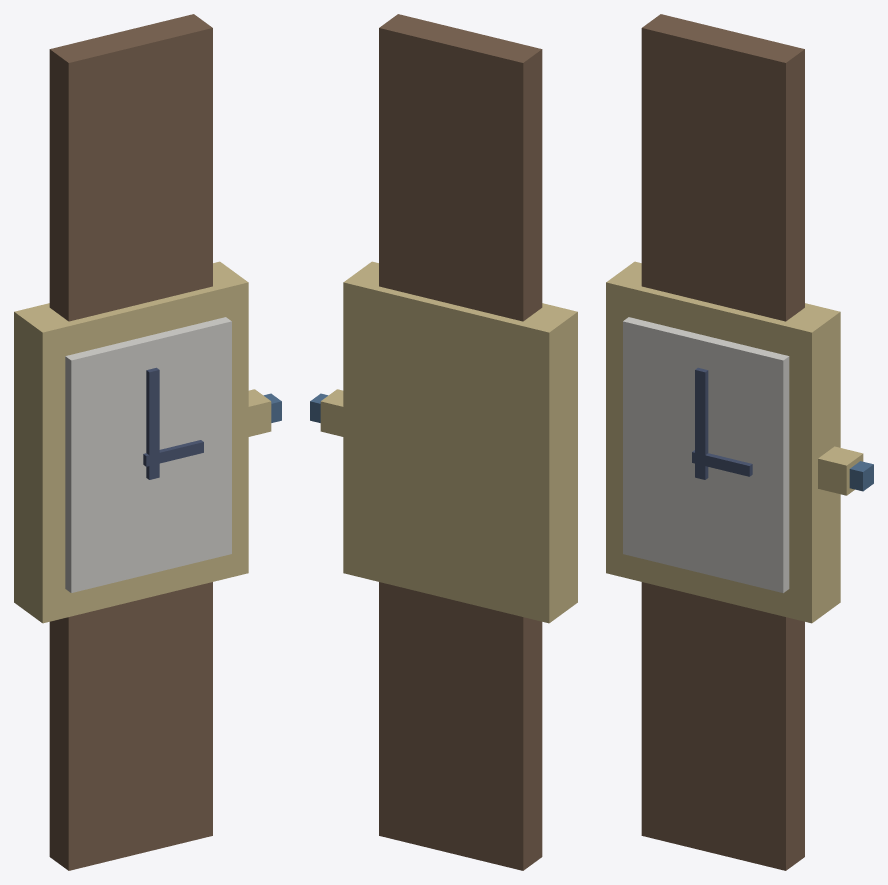
File: watch.glb
3 renders of one model, left to right at view 1: azimuth 30°, elevation 25°; view 2: azimuth 150°, elevation 25°; view 3: azimuth 330°, elevation 25°, orthographic.
Visible parts, largest first — view 1: geometry_2, geometry_3, geometry_1, geometry_0, geometry_4, geometry_6, geometry_5; view 2: geometry_0, geometry_2, geometry_3, geometry_6; view 3: geometry_2, geometry_3, geometry_1, geometry_0, geometry_6, geometry_4, geometry_5, geometry_7.
Boxes of the visible parts, x1,y1,x2,y2 form: geometry_2: (49,14,212,321); geometry_3: (49,582,212,870); geometry_1: (65,317,231,592); geometry_0: (14,261,248,623); geometry_4: (146,367,159,479); geometry_6: (248,389,271,436); geometry_5: (143,440,203,466); geometry_0: (343,261,577,623); geometry_2: (379,14,542,321); geometry_3: (379,582,542,870); geometry_6: (320,389,343,436); geometry_2: (641,14,804,321); geometry_3: (641,582,804,870); geometry_1: (623,317,789,592); geometry_0: (606,261,840,623); geometry_6: (818,446,863,495); geometry_4: (695,367,708,479); geometry_5: (692,450,752,476); geometry_7: (849,461,873,491).
Size of the model in its own units: 1.2 by 3.75 by 0.315.
